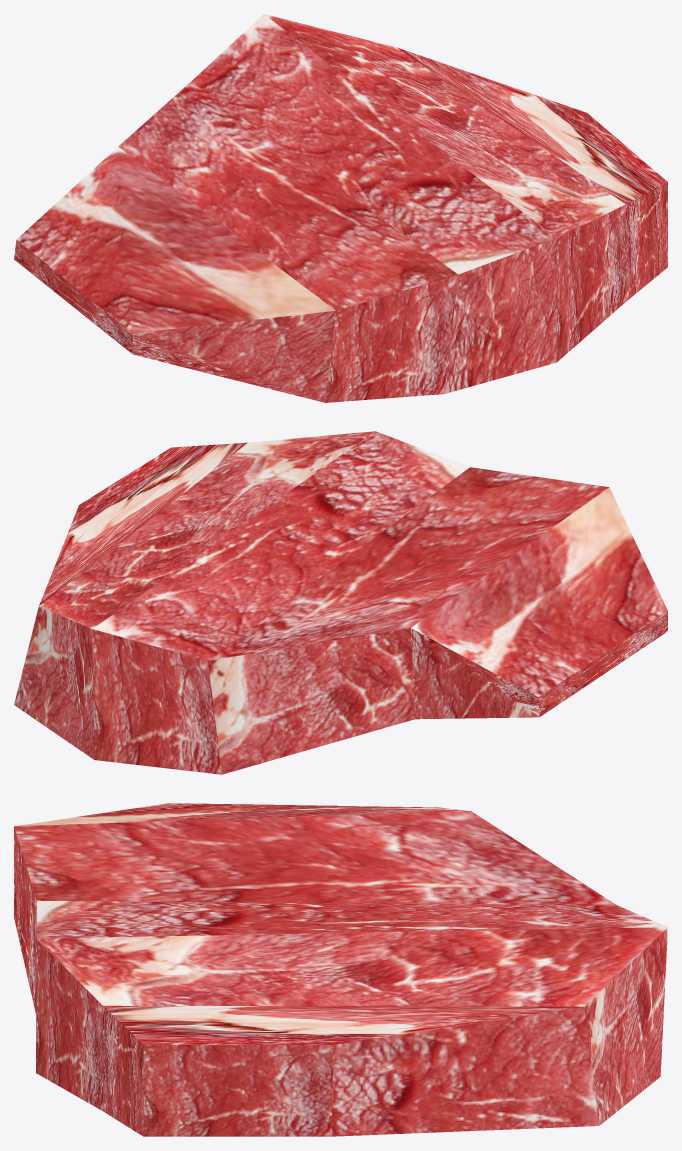
File: meat.glb
The picture shows the model from 3 angles, top to bottom: view 1: azimuth 30°, elevation 25°; view 2: azimuth 150°, elevation 25°; view 3: azimuth 270°, elevation 25°; orthographic projection. The views are drawn at different scales.
Parts seen in each view (by area): view 1: Object_2, Object_3; view 2: Object_2, Object_3; view 3: Object_2, Object_3.
Part boxes in pixels (bbox=[...]): Object_2: bbox=[16, 14, 667, 333]; Object_3: bbox=[14, 182, 667, 402]; Object_2: bbox=[39, 431, 667, 696]; Object_3: bbox=[14, 606, 667, 774]; Object_2: bbox=[14, 803, 667, 1044]; Object_3: bbox=[14, 827, 667, 1136].
Size of the model in its own units: 1.41 by 0.3533 by 1.39.
2 materials, 2 textured.
